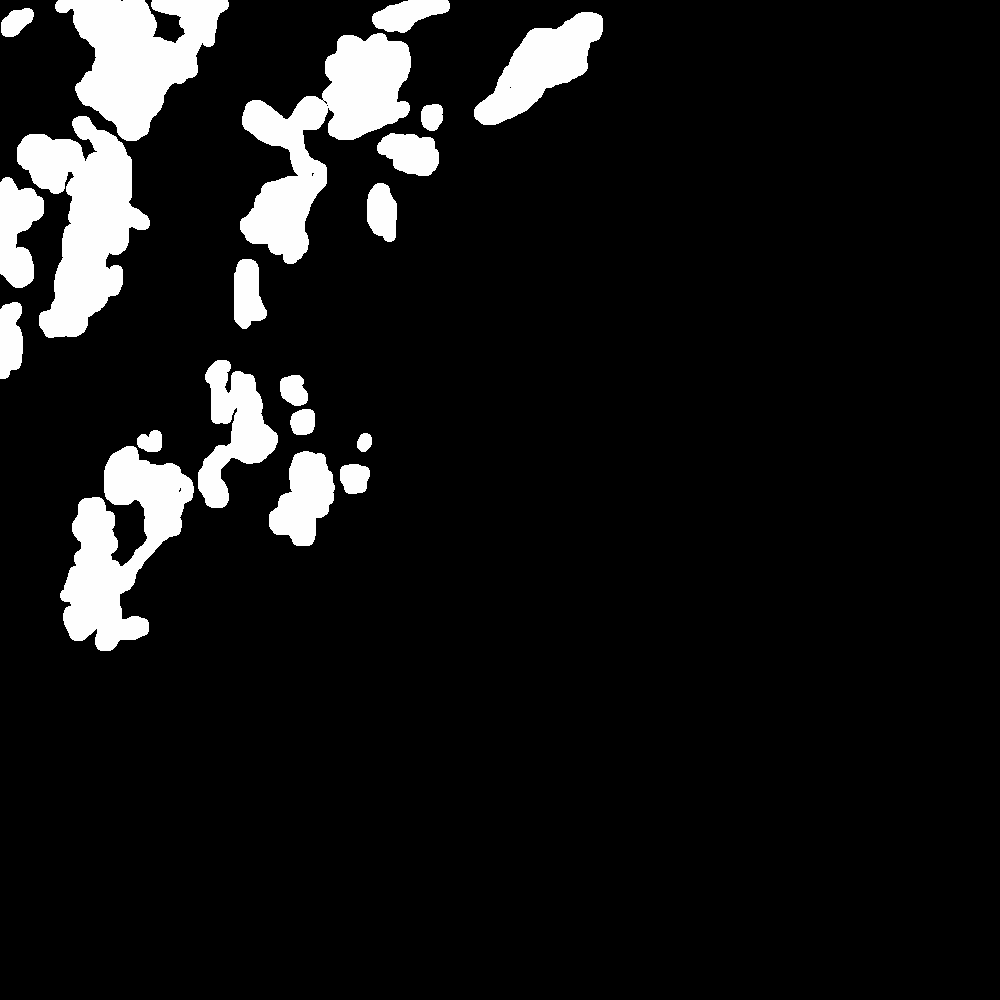illegal: (64, 363, 374, 646), (1, 1, 217, 360), (242, 1, 453, 263), (473, 8, 605, 126), (377, 99, 446, 180), (231, 262, 268, 324), (365, 186, 400, 243)
